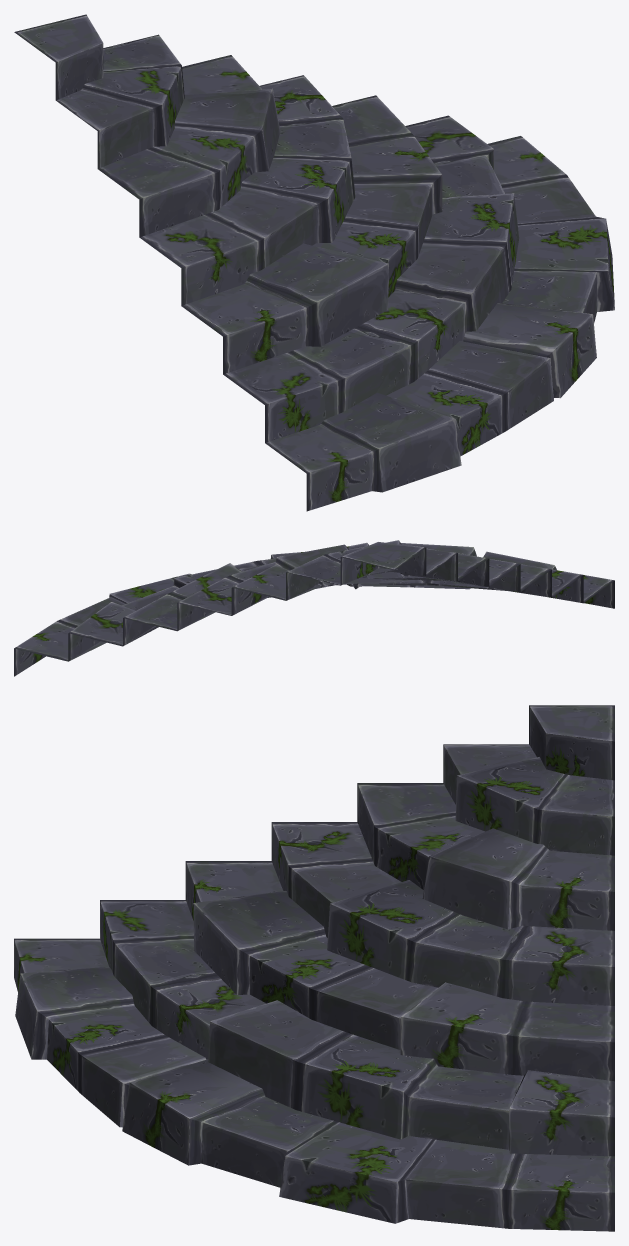
File: MOD_Stairs_01_E_convex_3.fbx
3 views of the same model, one above another, from view 1: azimuth 30°, elevation 25°; view 2: azimuth 150°, elevation 25°; view 3: azimuth 270°, elevation 25° (orthographic). The views are drawn at different scales.
Visible parts, largest first — view 1: MOD_Stairs_01_E_convex_3; view 2: MOD_Stairs_01_E_convex_3; view 3: MOD_Stairs_01_E_convex_3.
Boxes of the visible parts, x1,y1,x2,y2 form: MOD_Stairs_01_E_convex_3: [14, 14, 614, 511]; MOD_Stairs_01_E_convex_3: [14, 540, 614, 676]; MOD_Stairs_01_E_convex_3: [14, 705, 614, 1231].
Size of what is drawn, in the model's own units: 400 by 200 by 400.
